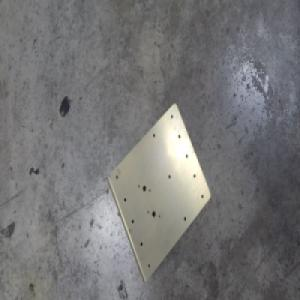MetalSheet: (106, 101, 212, 284)
